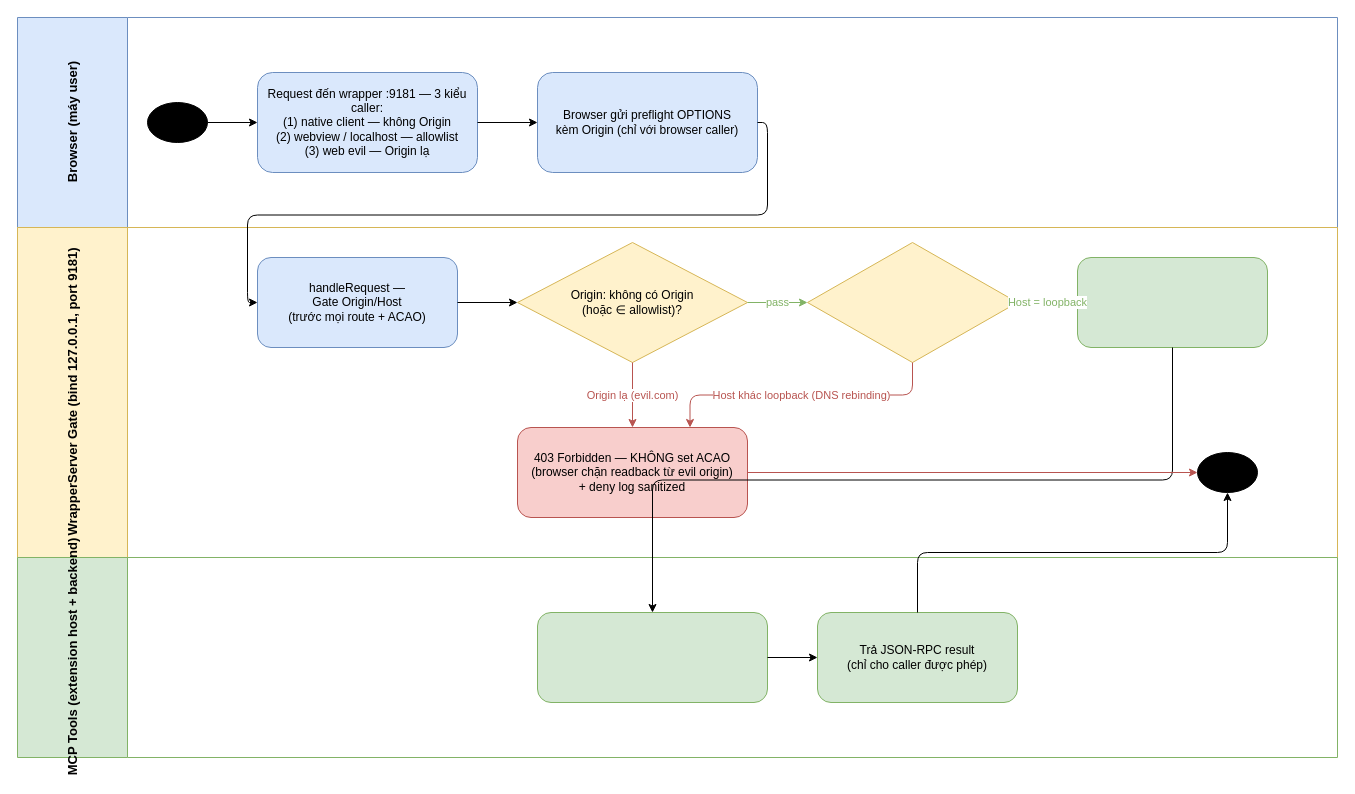
Image size: 1355x794. Some labels were removed from this diagram. The shapes that lost their labels are listed below. From the top down, each one's centre as x and y in pixels, then its label:
At [177,122]: "Start".
At [912,302]: "Host = 127.0.0.1 / localhost : port?".
At [1172,302]: "handleMcp như cũ: initialize / tools/list / tools/call / SSE".
At [1227,472]: "End".
At [652,657]: "Thực thi tool (local / Atlassian / backend) — containment SA4E-356 giữ nguyên".
